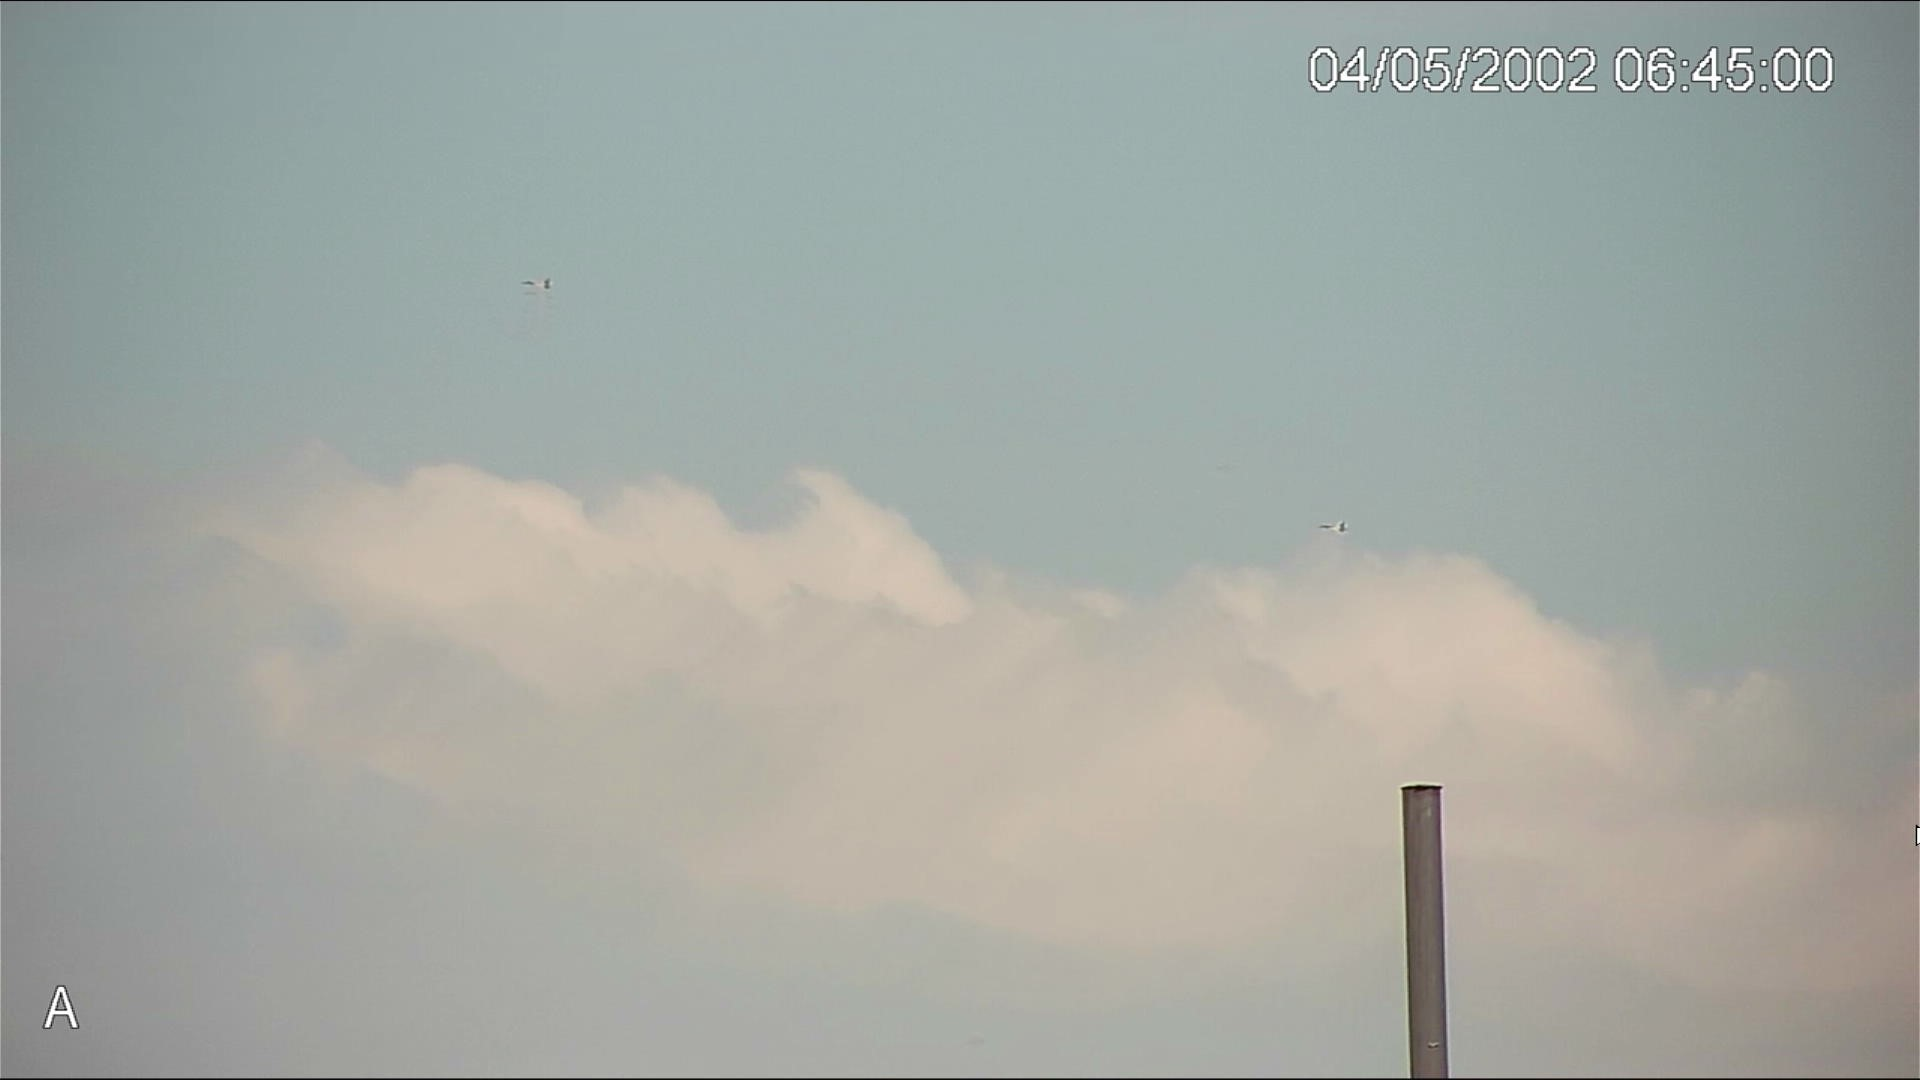SU_30: (520, 276, 553, 291)
